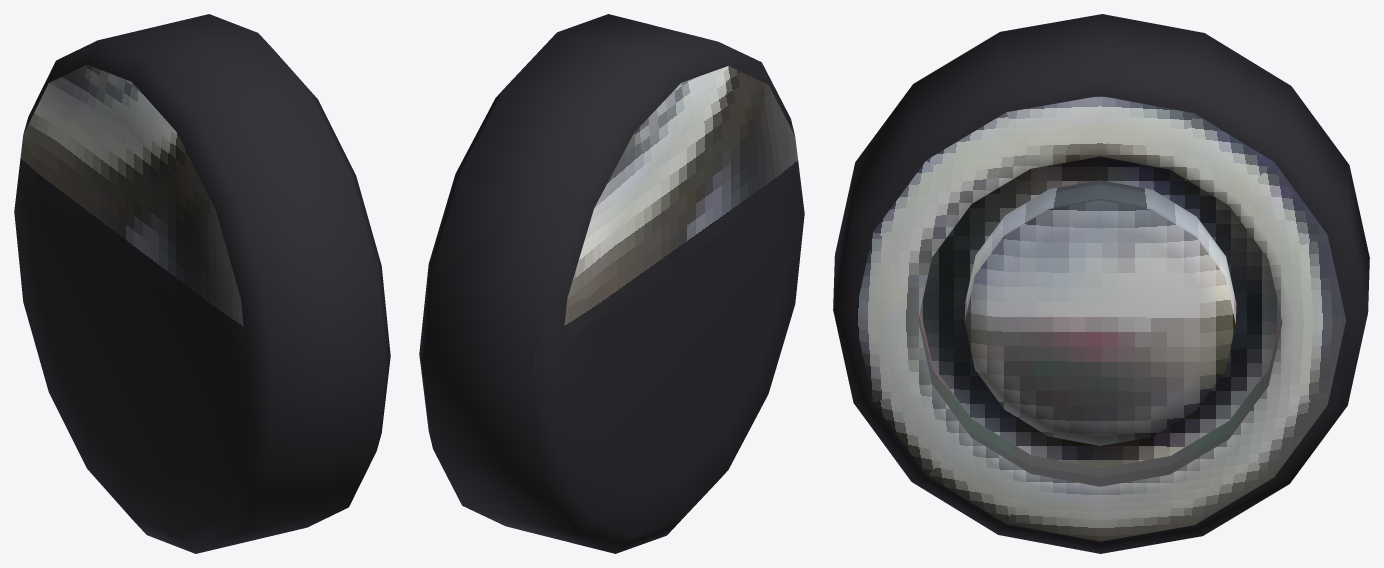
Rendered from small wheel.glb.
3 views of the same model, side by side, from view 1: azimuth 30°, elevation 25°; view 2: azimuth 150°, elevation 25°; view 3: azimuth 270°, elevation 25° (orthographic).
Visible parts, largest first — view 1: Cylinder.008; view 2: Cylinder.008; view 3: Cylinder.008.
Part boxes in pixels (x1,y1,x2,y2): Cylinder.008: (14,14,390,553); Cylinder.008: (419,14,804,553); Cylinder.008: (833,14,1369,553).
Size of the model in its own units: 0.4691 by 1.29 by 1.29.
Materials: 1 (1 with a texture image).
